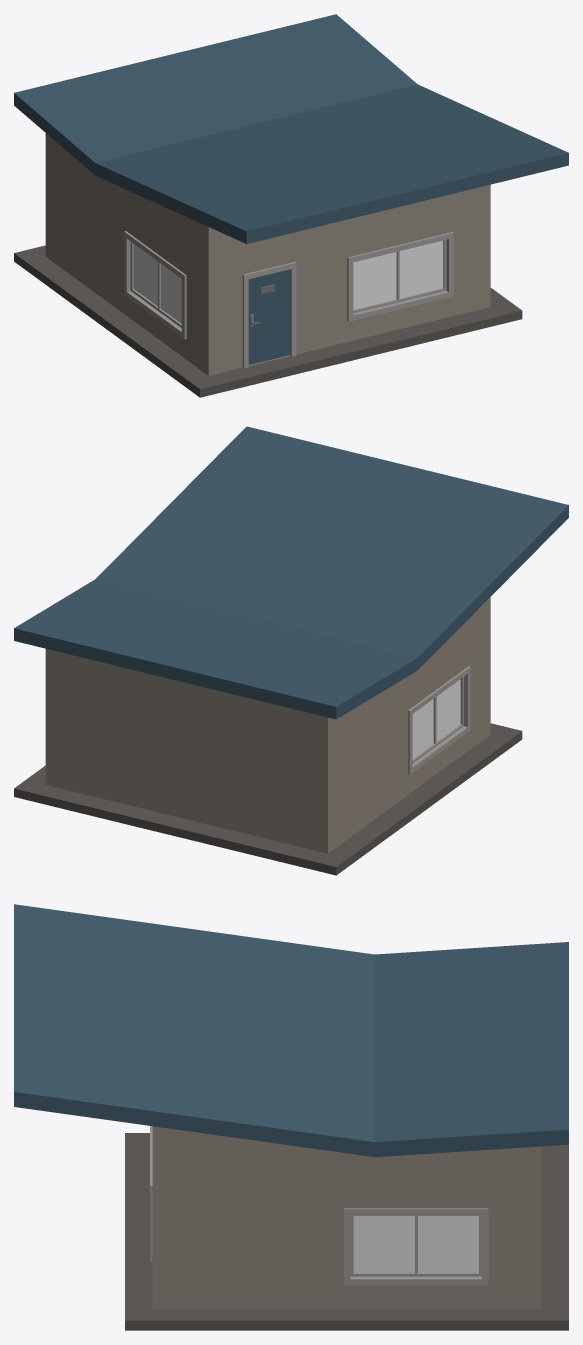
Rendered from SM_Bldg_City_Motel_Entrance_02.fbx.
The picture shows the model from 3 angles, top to bottom: view 1: azimuth 30°, elevation 25°; view 2: azimuth 150°, elevation 25°; view 3: azimuth 270°, elevation 25°; orthographic projection. The views are drawn at different scales.
Parts seen in each view (by area): view 1: SM_Bldg_City_Motel_Entrance_02, SM_Bldg_City_Motel_Entrance_02_Glass, SM_Bldg_City_Motel_Entrance_02_Door; view 2: SM_Bldg_City_Motel_Entrance_02, SM_Bldg_City_Motel_Entrance_02_Glass; view 3: SM_Bldg_City_Motel_Entrance_02, SM_Bldg_City_Motel_Entrance_02_Glass.
Boxes of the visible parts, x1,y1,x2,y2 form: SM_Bldg_City_Motel_Entrance_02: (14,14,568,397); SM_Bldg_City_Motel_Entrance_02_Glass: (134,240,443,323); SM_Bldg_City_Motel_Entrance_02_Door: (248,269,289,364); SM_Bldg_City_Motel_Entrance_02: (14,426,568,875); SM_Bldg_City_Motel_Entrance_02_Glass: (412,679,460,758); SM_Bldg_City_Motel_Entrance_02: (14,904,568,1330); SM_Bldg_City_Motel_Entrance_02_Glass: (353,1216,478,1272).
Size of the model in its own units: 800 by 475 by 1000.
